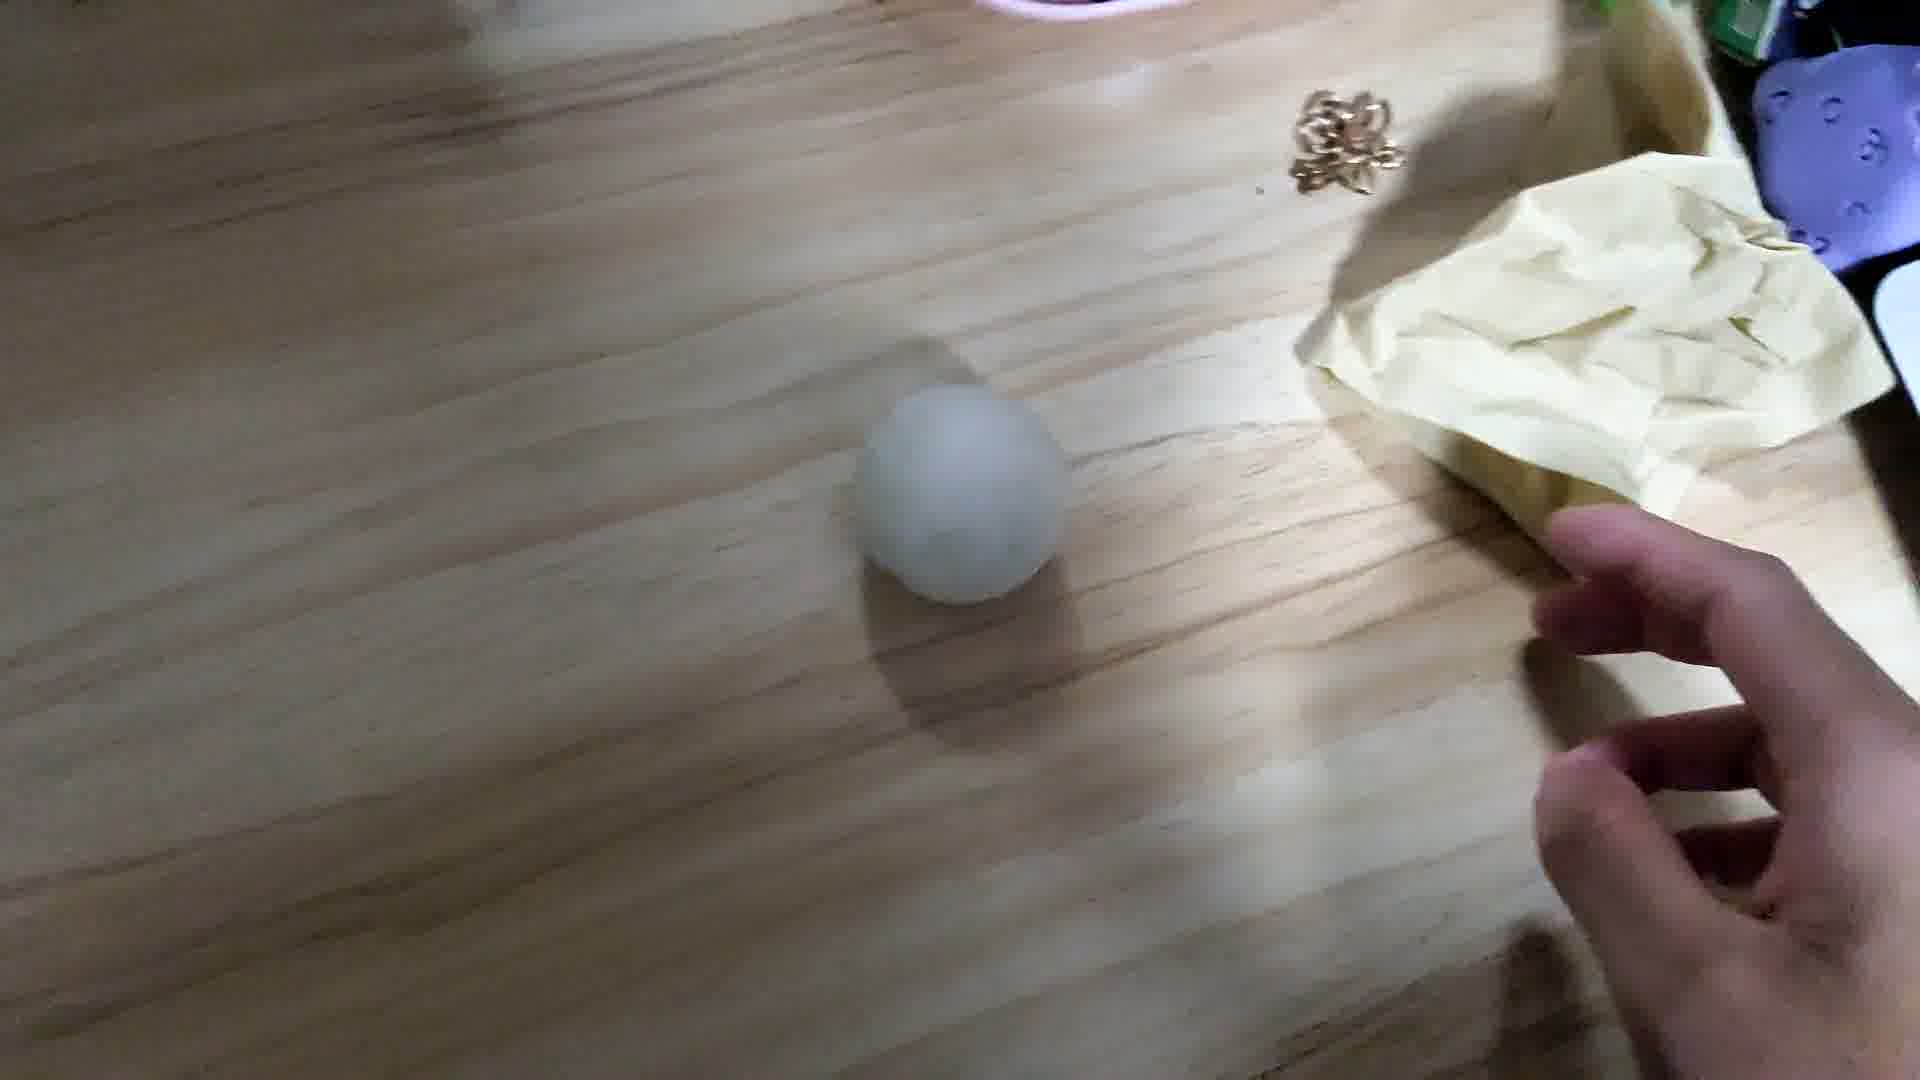Ball: (856, 378, 1069, 597)
